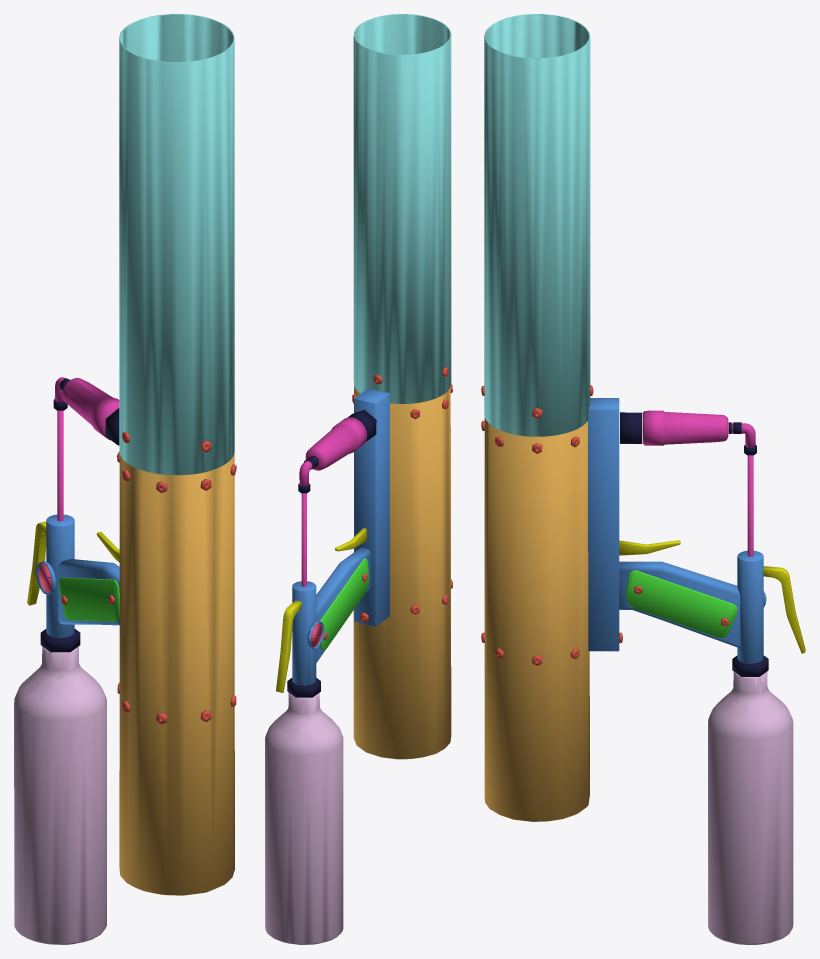
File: TShirtCannon.fbx
3 renders of one model, left to right at view 1: azimuth 30°, elevation 25°; view 2: azimuth 150°, elevation 25°; view 3: azimuth 270°, elevation 25°, orthographic. The views are drawn at different scales.
Visible parts, largest first — view 1: TShirtCannon; view 2: TShirtCannon; view 3: TShirtCannon.
Boxes of the visible parts, <box> form: TShirtCannon: <box>14,14,236,944</box>; TShirtCannon: <box>265,14,452,944</box>; TShirtCannon: <box>481,14,805,944</box>.
Bounding box in the file's own units: 0.0478 × 0.4209 × 0.1386.
